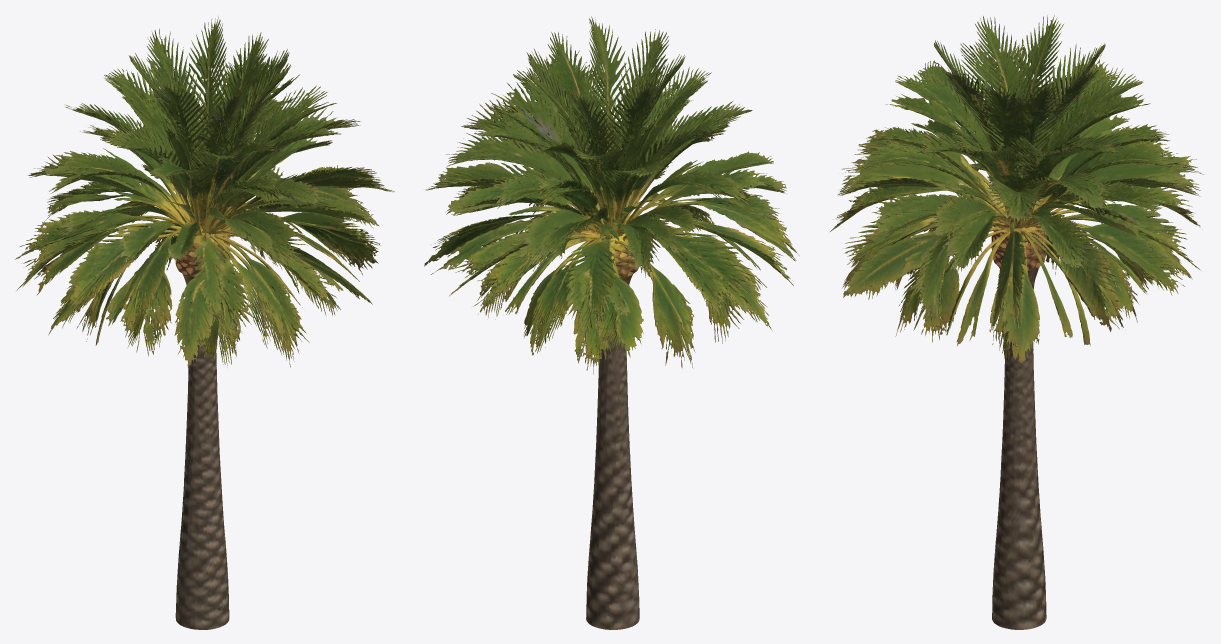
File: palm2.glb
3 views of the same model, side by side, from view 1: azimuth 30°, elevation 25°; view 2: azimuth 150°, elevation 25°; view 3: azimuth 270°, elevation 25° (orthographic). The views are drawn at different scales.
Parts seen in each view (by area): view 1: output_unwrapped; view 2: output_unwrapped; view 3: output_unwrapped.
Boxes of the visible parts, x1,y1,x2,y2 form: output_unwrapped: (15,16,394,629); output_unwrapped: (424,16,799,629); output_unwrapped: (830,15,1203,629).
Bounding box in the file's own units: 0.615 × 1 × 0.5917.
Materials: 1 (1 with a texture image).
